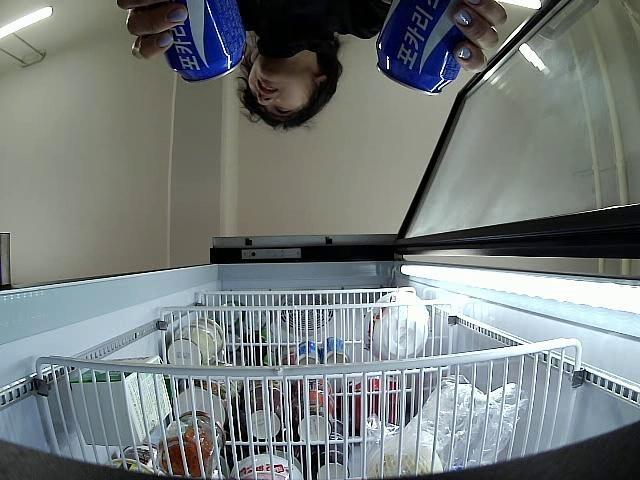13_pocariSweat: (375, 0, 463, 98), (162, 0, 247, 85)
